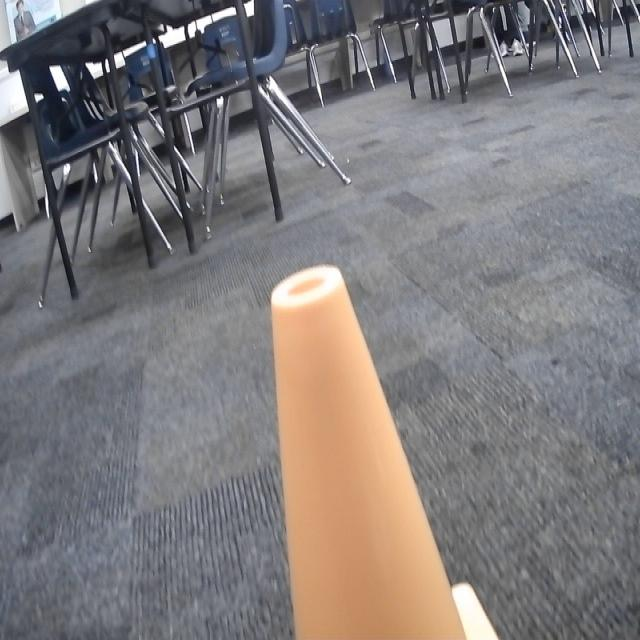cone: (271, 262, 497, 640)
